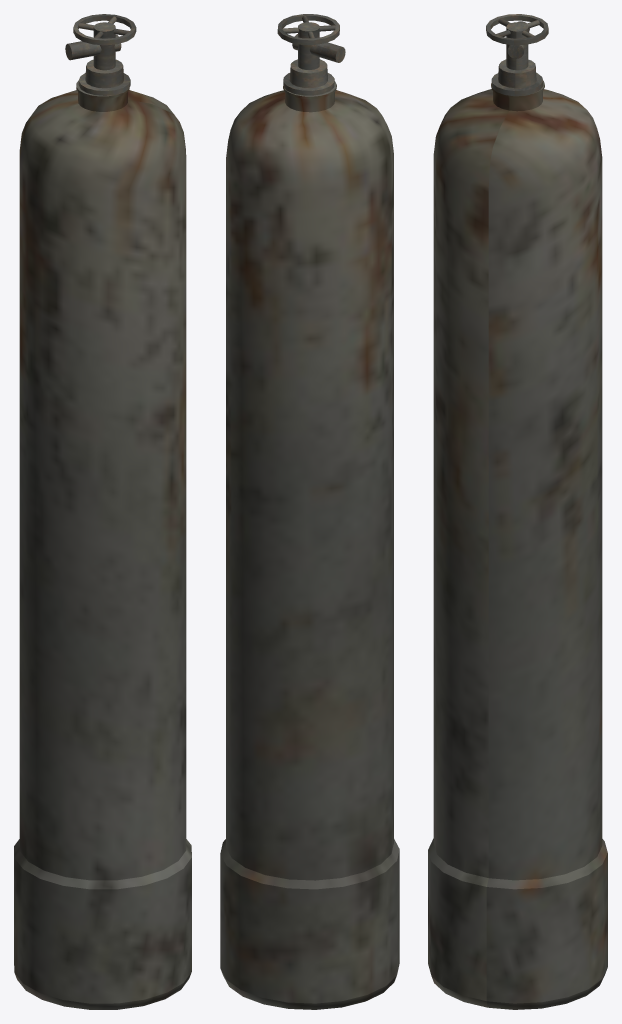
Rendered from prop_medium_007.glb.
3 views of the same model, side by side, from view 1: azimuth 30°, elevation 25°; view 2: azimuth 150°, elevation 25°; view 3: azimuth 270°, elevation 25° (orthographic).
Visible parts, largest first — view 1: Building_12_026; view 2: Building_12_026; view 3: Building_12_026.
Part boxes in pixels (x1,y1,x2,y2): Building_12_026: (14,14,191,1009); Building_12_026: (220,14,399,1009); Building_12_026: (428,14,607,1009).
Bounding box in the file's own units: 0.206 × 1.2 × 0.206.
Materials: 1 (1 with a texture image).
